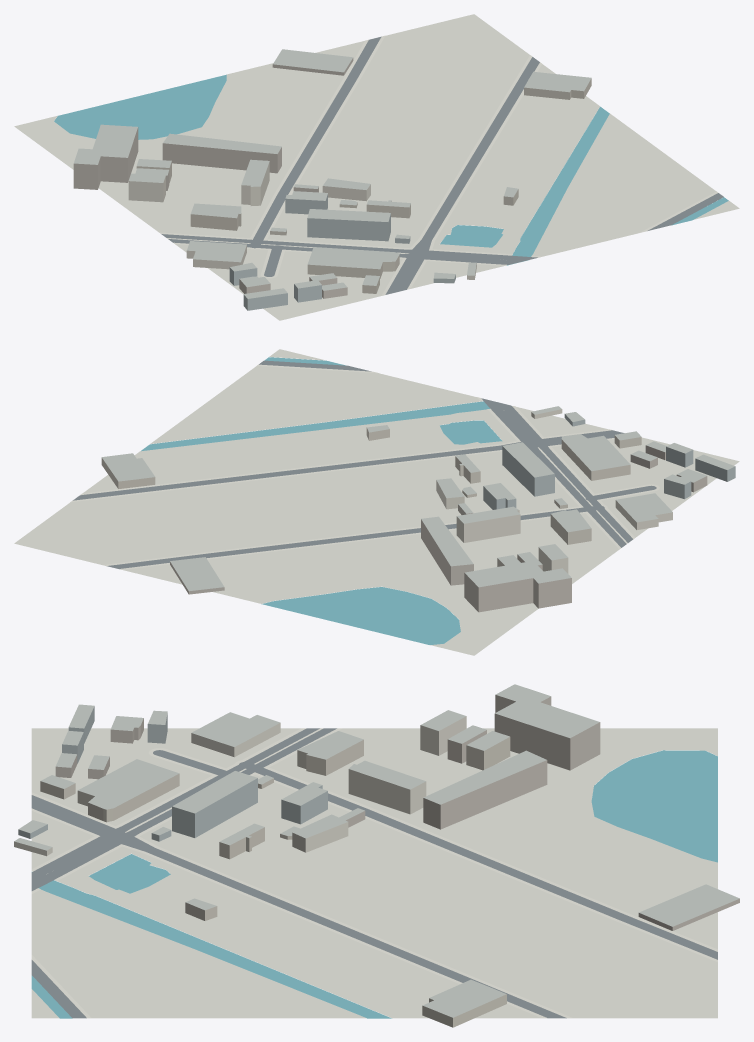
3 renders of one model, top to bottom at view 1: azimuth 30°, elevation 25°; view 2: azimuth 150°, elevation 25°; view 3: azimuth 270°, elevation 25°, orthographic. The views are drawn at different scales.
Visible parts, largest first — view 1: city; view 2: city; view 3: city.
Boxes of the visible parts, bbox=[...] form: city: bbox=[14, 14, 739, 320]; city: bbox=[14, 349, 739, 655]; city: bbox=[14, 684, 739, 1027].
Bounding box in the file's own units: 537 × 26.18 × 529.
